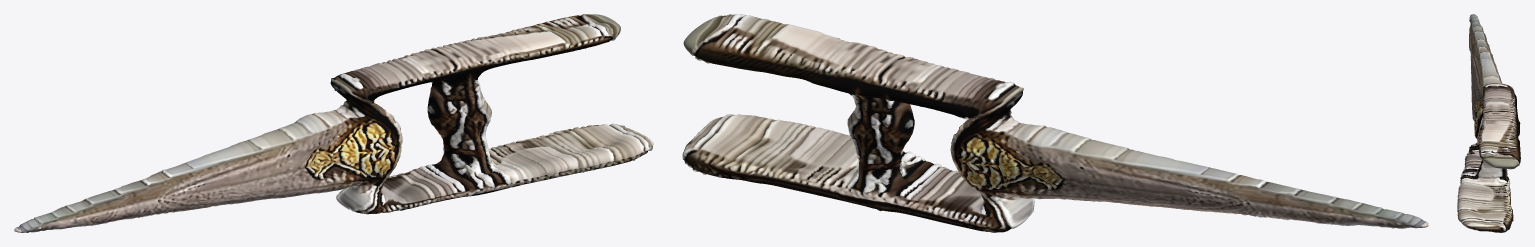
File: kfl-2222.glb
3 renders of one model, left to right at view 1: azimuth 30°, elevation 25°; view 2: azimuth 150°, elevation 25°; view 3: azimuth 270°, elevation 25°, orthographic. The views are drawn at different scales.
Parts seen in each view (by area): view 1: kfl-2222; view 2: kfl-2222; view 3: kfl-2222.
Part boxes in pixels (x1,y1,x2,y2): kfl-2222: [14, 14, 653, 232]; kfl-2222: [682, 14, 1428, 232]; kfl-2222: [1457, 14, 1520, 232].
Bounding box in the file's own units: 0.9822 × 0.1954 × 0.1505.
1 material, 1 textured.
